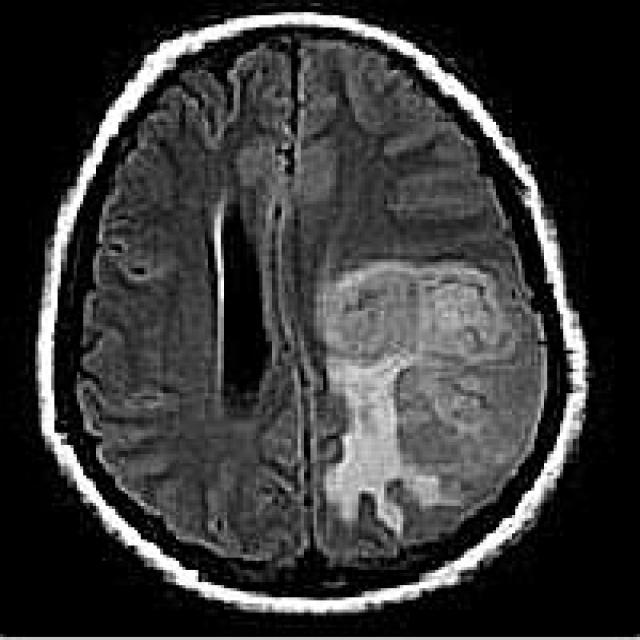Tumor-Cell: (319, 258, 478, 499)
